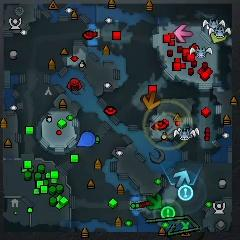Other: (178, 185, 194, 201), (161, 206, 175, 220)
p1: (76, 132, 95, 147)
x1: (174, 24, 193, 43)
x2: (210, 32, 227, 44)
x3: (173, 170, 190, 187)
x4: (145, 194, 162, 211)
x5: (142, 93, 161, 110)
